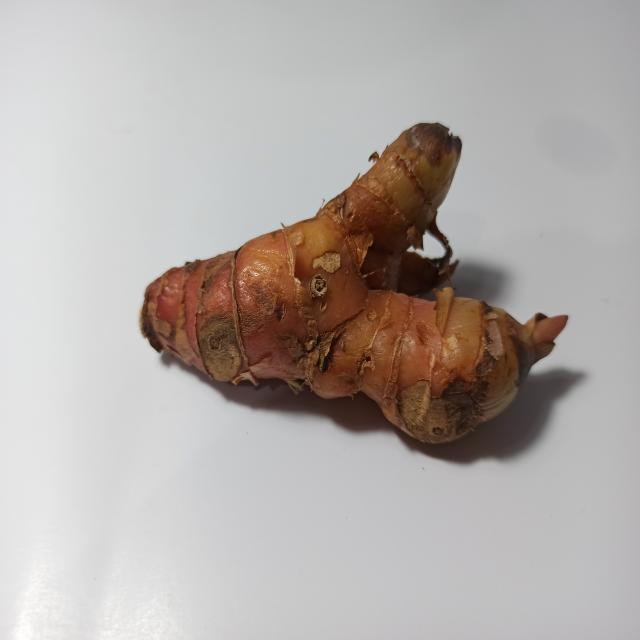ginger: (123, 100, 539, 438)
